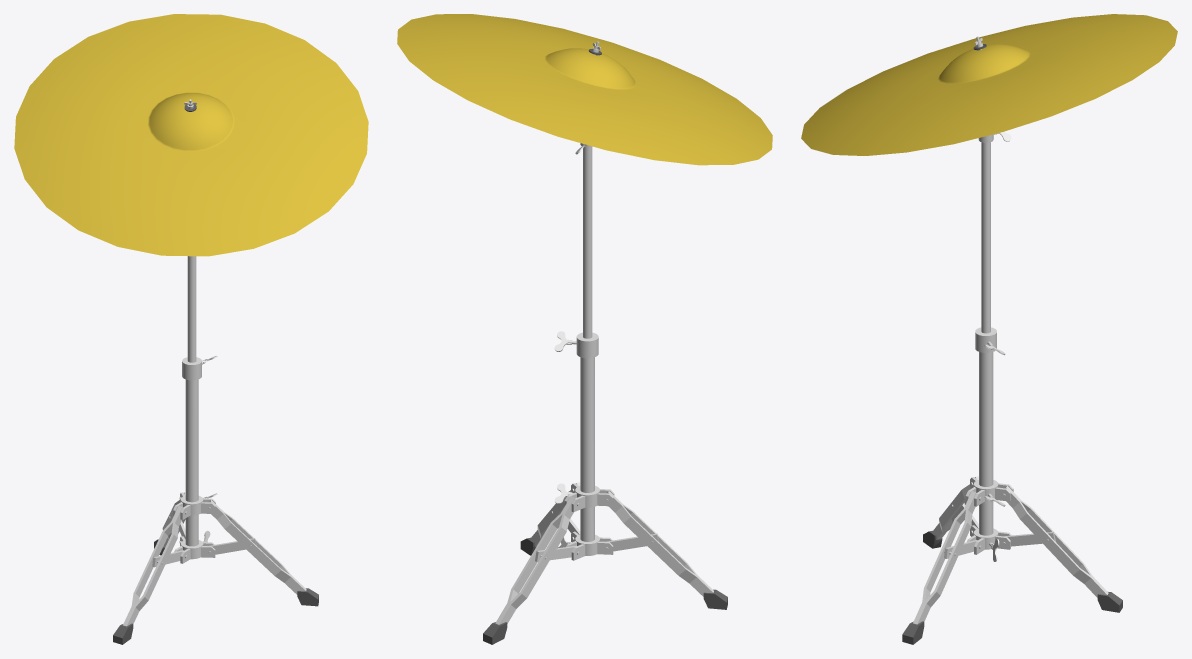
Rendered from Ride.glb.
The picture shows the model from 3 angles, left to right: view 1: azimuth 30°, elevation 25°; view 2: azimuth 150°, elevation 25°; view 3: azimuth 270°, elevation 25°; orthographic projection. The views are drawn at different scales.
Parts seen in each view (by area): view 1: 3DGeom-189, 3DGeom-103 (×2), 3DGeom-177; view 2: 3DGeom-189, 3DGeom-103 (×3), 3DGeom-177; view 3: 3DGeom-189, 3DGeom-103 (×3), 3DGeom-177.
Part boxes in pixels (x1,y1,x2,y2): 3DGeom-189: (14,14,368,256); 3DGeom-103 (×2): (123,498,306,626); 3DGeom-177: (181,256,203,559); 3DGeom-189: (397,14,772,165); 3DGeom-103 (×3): (495,482,713,624); 3DGeom-177: (575,143,599,555); 3DGeom-189: (801,14,1177,155); 3DGeom-103 (×3): (913,476,1108,624); 3DGeom-177: (973,134,998,549).
Size of the model in its own units: 0.6136 by 0.9977 by 0.6029.
